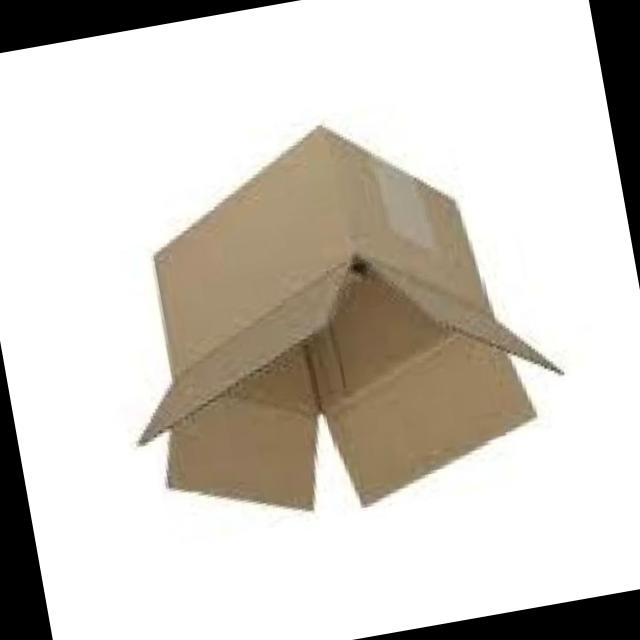cardboard paper: (142, 129, 560, 510)
